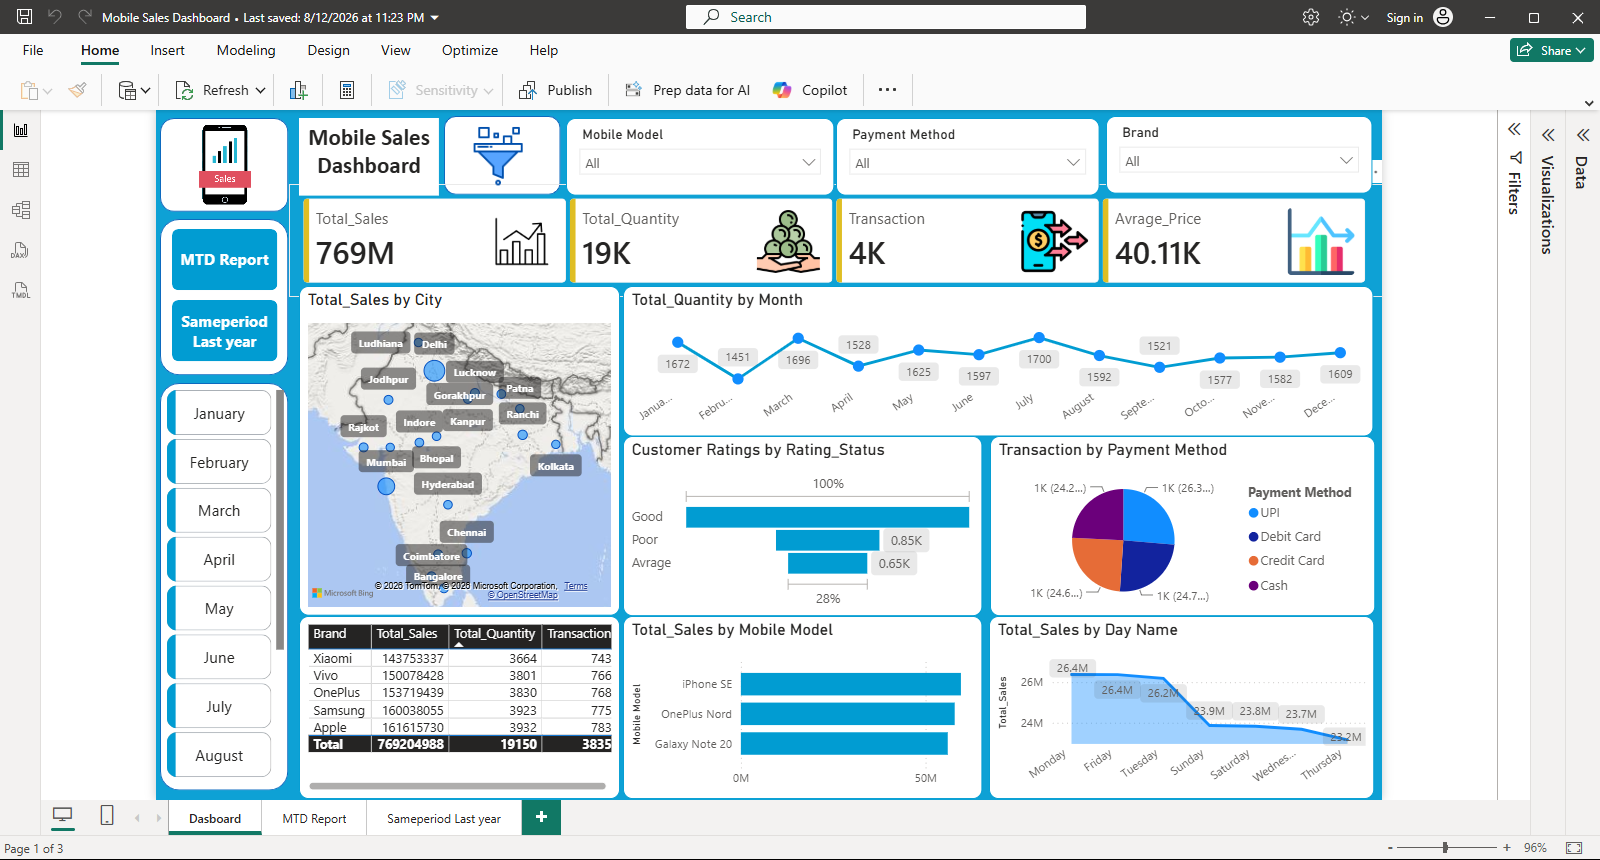

The dashboard page shown, as its layout file describes it:
{"tool":"powerbi","page":{"name":"Dasboard","canvas":[1280,720],"ordinal":0},"visuals":[{"type":"shape","box":[300.4,6.8,121.5,82.1],"z":0},{"type":"shape","box":[4.6,7.9,133.9,97.9],"z":1000},{"type":"shape","box":[4.6,113.6,133.9,163.1],"z":2000},{"type":"shape","box":[4.5,284.6,133.9,425.2],"z":3000},{"type":"advancedSlicerVisual","fields":{"Values":["Custom_Calendar.Date.Variation.Date Hierarchy.Month"]},"box":[10.1,291.4,124.9,410.6],"z":4000},{"type":"cardVisual","fields":{"Data":["Sales_Data.Total_Sales","Sales_Data.Total_Quantity","Sales_Data.Transaction","Sales_Data.Avrage_Price"]},"box":[138.8,77.1,1141.2,118.2],"z":5000},{"type":"slicer","fields":{"Values":["Sales_Data.Mobile Model"]},"box":[427.5,7.9,280.1,81],"z":6000},{"type":"slicer","fields":{"Values":["Sales_Data.Payment Method"]},"box":[709.9,7.9,274.5,81],"z":7000},{"type":"slicer","fields":{"Values":["Sales_Data.Brand"]},"box":[990.8,6.4,277.6,81],"z":8000},{"type":"image","box":[300.4,16.9,112.5,63],"z":9000},{"type":"textbox","box":[149.6,7.9,146.2,81],"z":10000},{"type":"map","fields":{"Category":["Sales_Data.City"],"Size":["Sales_Data.Total_Sales"]},"box":[149.1,183.8,335.4,344.4],"z":11000},{"type":"lineChart","fields":{"Y":["Sales_Data.Total_Quantity"],"Category":["Custom_Calendar.Date.Variation.Date Hierarchy.Month"]},"box":[487.1,183.8,782.7,156.8],"z":12000},{"type":"funnel","title":"Customer Ratings by Rating_Status","fields":{"Y":["CountNonNull(Sales_Data.Customer Ratings)"],"Category":["Sales_Data.Rating_Status"]},"box":[487.1,340.6,375.3,187.6],"z":13000},{"type":"pieChart","fields":{"Category":["Sales_Data.Payment Method"],"Y":["Sales_Data.Transaction"]},"box":[870,340.6,402.2,187.6],"z":14000},{"type":"clusteredBarChart","fields":{"Category":["Sales_Data.Mobile Model"],"Y":["Sales_Data.Total_Sales"]},"box":[487.1,528.2,375.3,191.5],"z":15000},{"type":"areaChart","fields":{"Y":["Sales_Data.Total_Sales"],"Category":["Custom_Calendar.Day Name"]},"box":[868.8,528.2,402.2,191.5],"z":16000},{"type":"tableEx","fields":{"Values":["Sales_Data.Brand","Sales_Data.Total_Sales","Sales_Data.Total_Quantity","Sales_Data.Transaction"]},"box":[149.1,528.2,335.4,191.5],"z":17000},{"type":"pageNavigator","box":[16.9,123.8,110.2,138.4],"z":18000},{"type":"image","box":[10.1,15.8,122.6,83.2],"z":18001}]}

Visuals, with their boxes on the page's 1280x720 design canvas (x1, y1, x2, y2). These are canvas units, not pixel positions in the 1600x860 screenshot, which may show the page scaled, cropped or inside an application window:
shape: [300, 7, 422, 89]
shape: [5, 8, 138, 106]
shape: [5, 114, 138, 277]
shape: [4, 285, 138, 710]
advancedSlicerVisual - Custom_Calendar.Date.Variation.Date Hierarchy.Month: [10, 291, 135, 702]
cardVisual - Sales_Data.Total_Sales x Sales_Data.Total_Quantity: [139, 77, 1280, 195]
slicer - Sales_Data.Mobile Model: [428, 8, 708, 89]
slicer - Sales_Data.Payment Method: [710, 8, 984, 89]
slicer - Sales_Data.Brand: [991, 6, 1268, 87]
image: [300, 17, 413, 80]
textbox: [150, 8, 296, 89]
map - Sales_Data.City x Sales_Data.Total_Sales: [149, 184, 484, 528]
lineChart - Sales_Data.Total_Quantity x Custom_Calendar.Date.Variation.Date Hierarchy.Month: [487, 184, 1270, 341]
"Customer Ratings by Rating_Status" funnel: [487, 341, 862, 528]
pieChart - Sales_Data.Payment Method x Sales_Data.Transaction: [870, 341, 1272, 528]
clusteredBarChart - Sales_Data.Mobile Model x Sales_Data.Total_Sales: [487, 528, 862, 720]
areaChart - Sales_Data.Total_Sales x Custom_Calendar.Day Name: [869, 528, 1271, 720]
tableEx - Sales_Data.Brand x Sales_Data.Total_Sales: [149, 528, 484, 720]
pageNavigator: [17, 124, 127, 262]
image: [10, 16, 133, 99]
